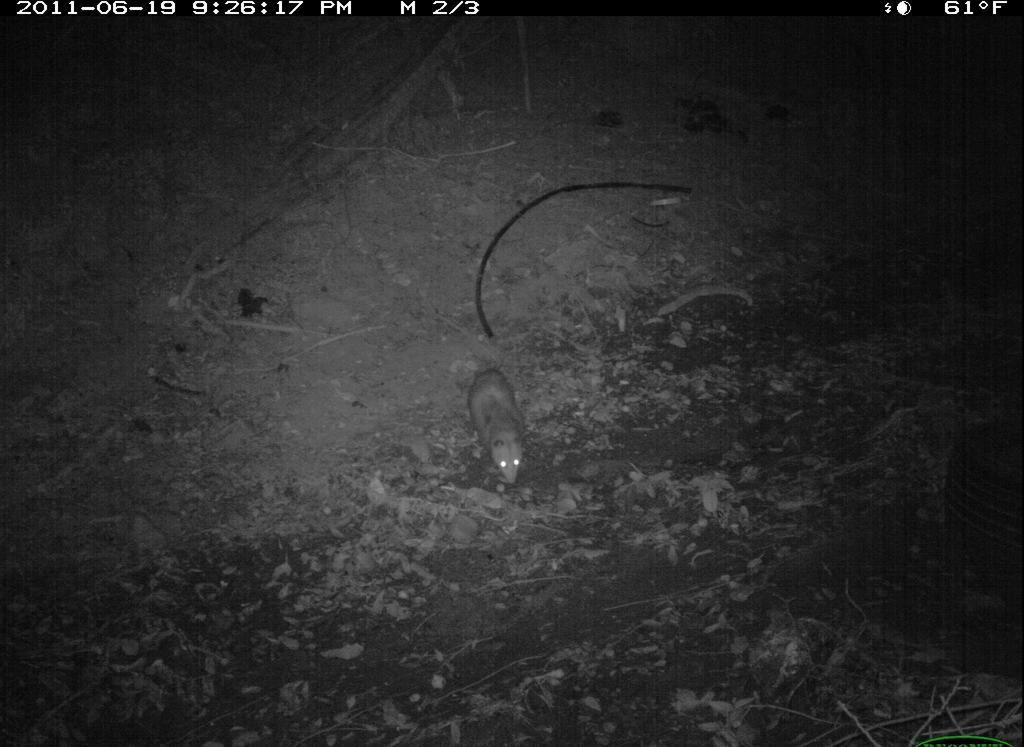opossum: (451, 359, 546, 489)
